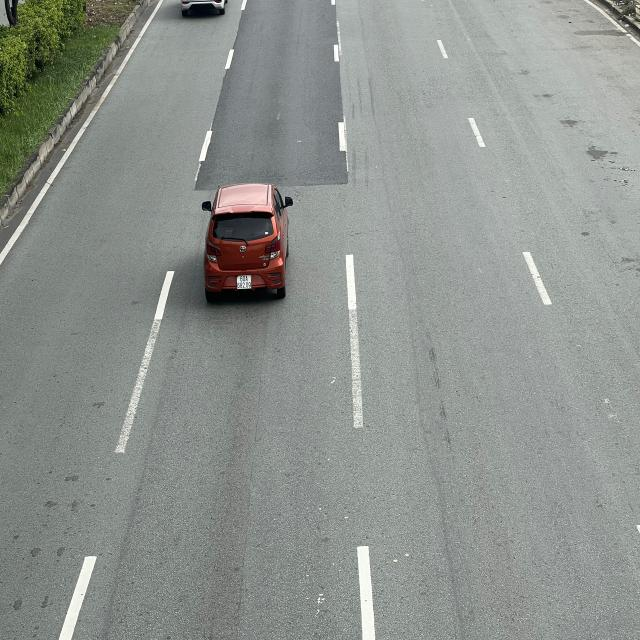car: (202, 185, 295, 298)
